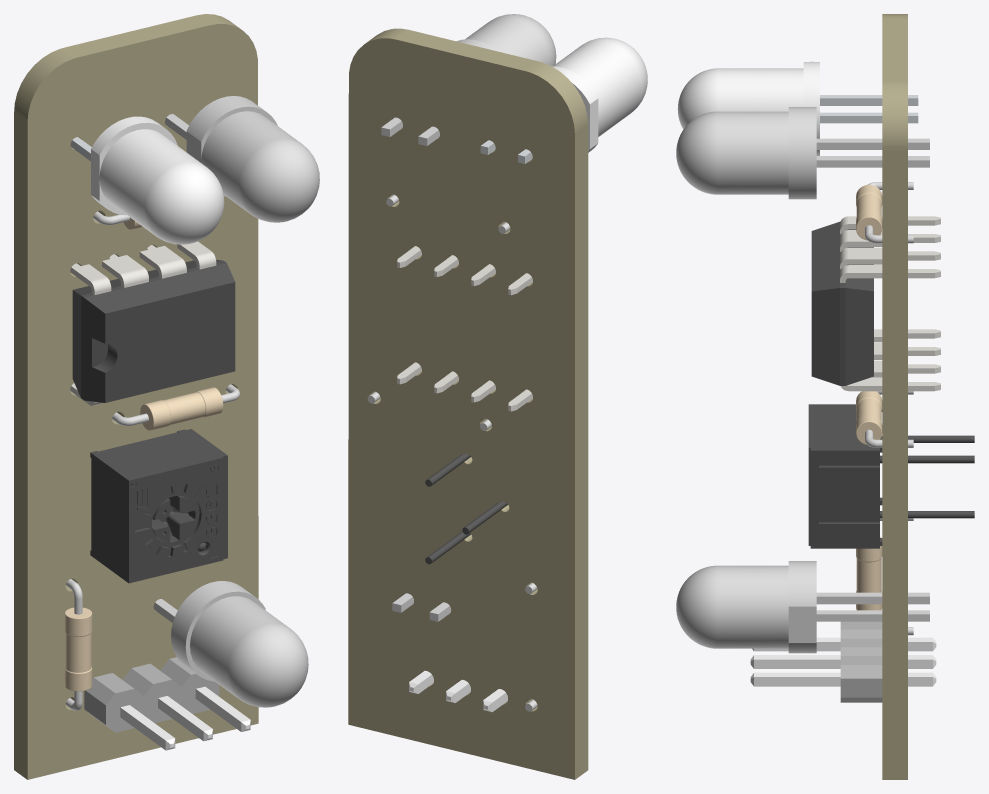
The model's file is IR Sensor.glb.
3 renders of one model, left to right at view 1: azimuth 30°, elevation 25°; view 2: azimuth 150°, elevation 25°; view 3: azimuth 270°, elevation 25°, orthographic. The views are drawn at different scales.
Parts seen in each view (by area): view 1: Board.001, Body1, Body1.001, Body1.008, Body1.003, Body1.009, Body1.002, Body1.012, Body1.011, Body31, Body37, Body29 (+1 smaller); view 2: Board.001, Body1.003, Body1.009, Body1.001, Body1.002, Body1.008; view 3: Board.001, Body1.008, Body1.009, Body1.001, Body1, Body1.002, Body1.003, Body1.010, Body1.011, Body1.012, Body1.004, Body1.005 (+2 smaller).
Part boxes in pixels (bbox=[...]): Board.001: bbox=[14, 14, 258, 779]; Body1: bbox=[72, 260, 235, 402]; Body1.001: bbox=[90, 429, 227, 583]; Body1.008: bbox=[153, 581, 308, 707]; Body1.003: bbox=[91, 116, 224, 244]; Body1.009: bbox=[165, 96, 319, 222]; Body1.002: bbox=[84, 657, 250, 750]; Body1.012: bbox=[64, 579, 92, 710]; Body1.011: bbox=[112, 384, 239, 430]; Body31: bbox=[139, 246, 186, 278]; Body37: bbox=[102, 255, 148, 287]; Body29: bbox=[72, 264, 111, 294]; Board.001: bbox=[348, 28, 588, 779]; Body1.003: bbox=[552, 37, 647, 152]; Body1.009: bbox=[381, 14, 556, 145]; Body1.001: bbox=[425, 454, 507, 564]; Body1.002: bbox=[409, 670, 507, 712]; Body1.008: bbox=[392, 593, 451, 621]; Board.001: bbox=[882, 14, 907, 779]; Body1.008: bbox=[676, 561, 929, 653]; Body1.009: bbox=[676, 107, 929, 199]; Body1.001: bbox=[808, 404, 974, 548]; Body1: bbox=[811, 221, 873, 385]; Body1.002: bbox=[750, 621, 936, 702]; Body1.003: bbox=[677, 61, 819, 155]; Body1.010: bbox=[856, 182, 913, 243]; Body1.011: bbox=[856, 391, 913, 447]; Body1.012: bbox=[856, 518, 913, 635]; Body1.004: bbox=[820, 112, 918, 123]; Body1.005: bbox=[820, 95, 918, 105].
Bounding box in the file's own units: 0.0155 × 0.0456 × 0.0183.
